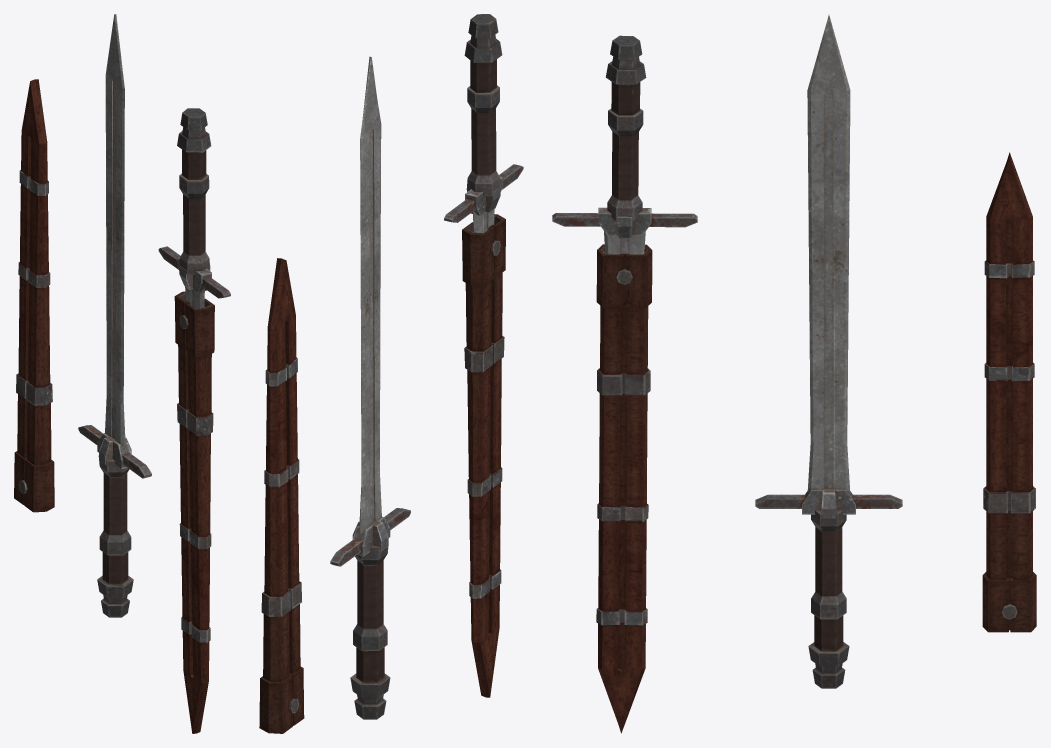
The model's file is melee_sword.glb.
The picture shows the model from 3 angles, left to right: view 1: azimuth 30°, elevation 25°; view 2: azimuth 150°, elevation 25°; view 3: azimuth 270°, elevation 25°; orthographic projection. The views are drawn at different scales.
Visible parts, largest first — view 1: Sword_Sheated, Sword_V9, Scabbard; view 2: Sword_Sheated, Scabbard, Sword_V9; view 3: Sword_Sheated, Sword_V9, Scabbard.
Part boxes in pixels (box(x1,y1,x2,y2)): Sword_Sheated: box(158, 108, 230, 733); Sword_V9: box(78, 14, 151, 617); Scabbard: box(14, 79, 54, 512); Sword_Sheated: box(444, 14, 523, 697); Scabbard: box(259, 258, 304, 733); Sword_V9: box(330, 56, 410, 719); Sword_Sheated: box(552, 35, 697, 733); Sword_V9: box(755, 15, 902, 688); Scabbard: box(982, 152, 1036, 632).
Bounding box in the file's own units: 0.1066 × 1.72 × 1.04.
4 materials, 4 textured.
